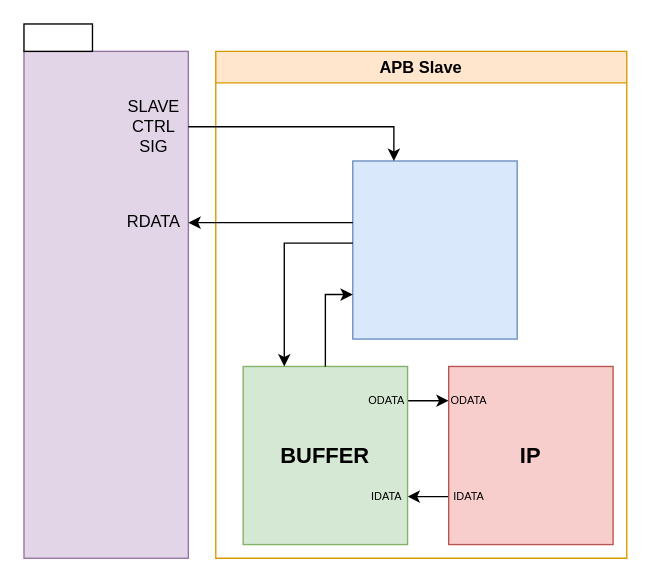
Some shapes in this 651 by 582 pixel diagram are drawn without their labels. Here are the shapes that lost their labels. From the top down, the box of each, then its label:
(23, 23, 92, 51): MASTER
(351, 160, 517, 339): INTERFACE
